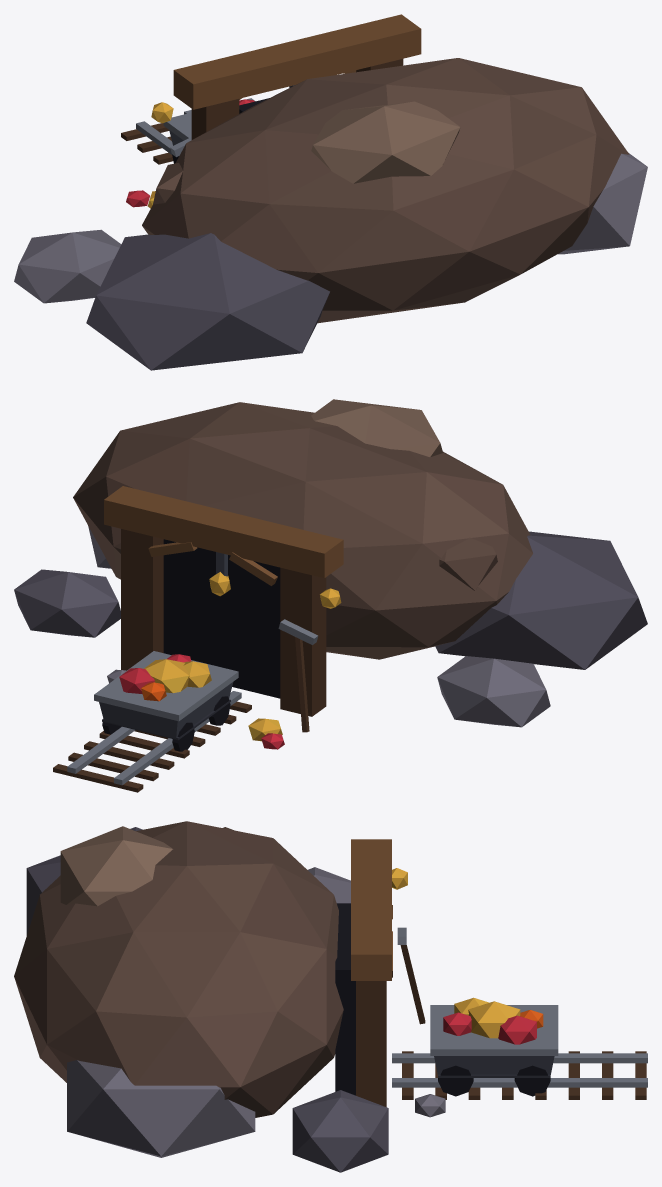
File: Decor_Volcano_Mine.fbx
3 renders of one model, top to bottom at view 1: azimuth 30°, elevation 25°; view 2: azimuth 150°, elevation 25°; view 3: azimuth 270°, elevation 25°, orthographic. The views are drawn at different scales.
Visible parts, largest first — view 1: Mine_Body; view 2: Mine_Body; view 3: Mine_Body.
Boxes of the visible parts, x1,y1,x2,y2 form: Mine_Body: (14, 14, 647, 370); Mine_Body: (14, 399, 647, 792); Mine_Body: (14, 821, 647, 1172).
Bounding box in the file's own units: 26 × 10 × 25.
